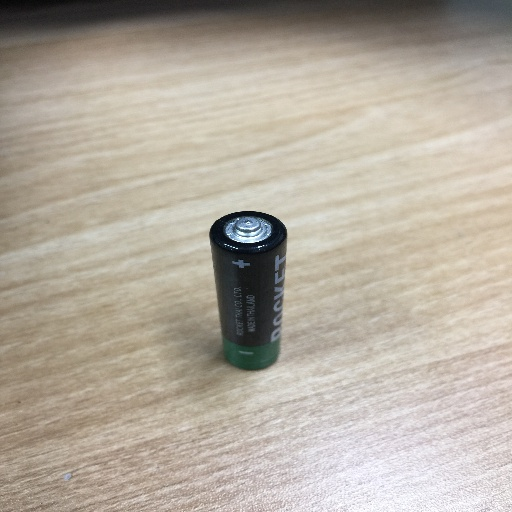Battery_0: (203, 200, 298, 380)
